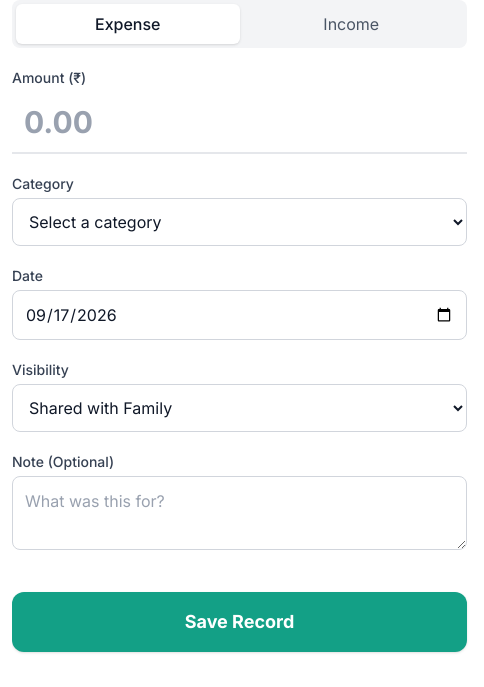
Test: AddTransactionForm Component › shows custom category input when Other is selected
expect the field with placeholder "e.g. Subscriptions" is not shown: met
Select "Other Expense (Add New)" in the dropdown named "category_id" at (240, 222), box [12, 198, 467, 246]
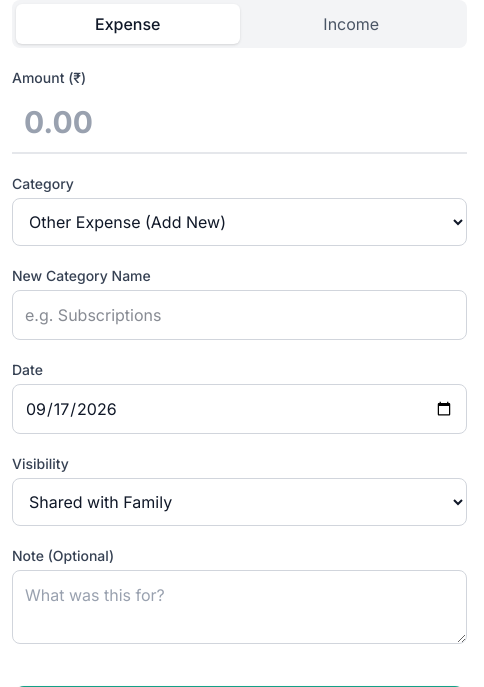
expect the field with placeholder "e.g. Subscriptions" is shown: met, box [12, 290, 467, 340]
